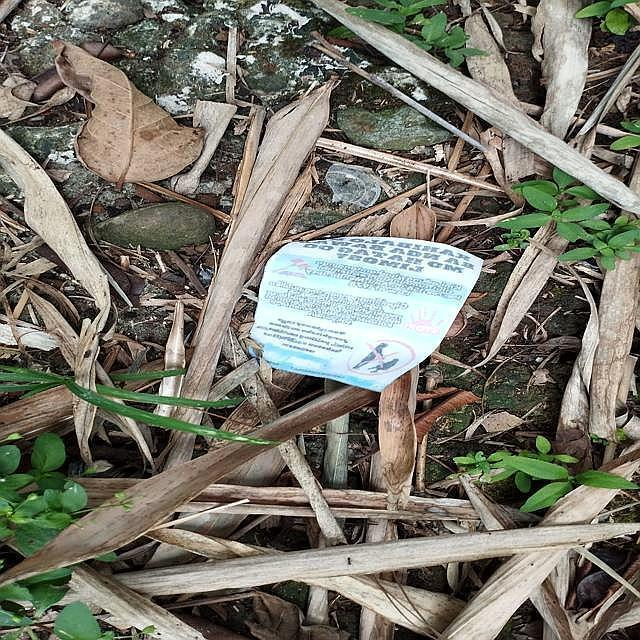Biodegradable: (231, 226, 495, 408)
